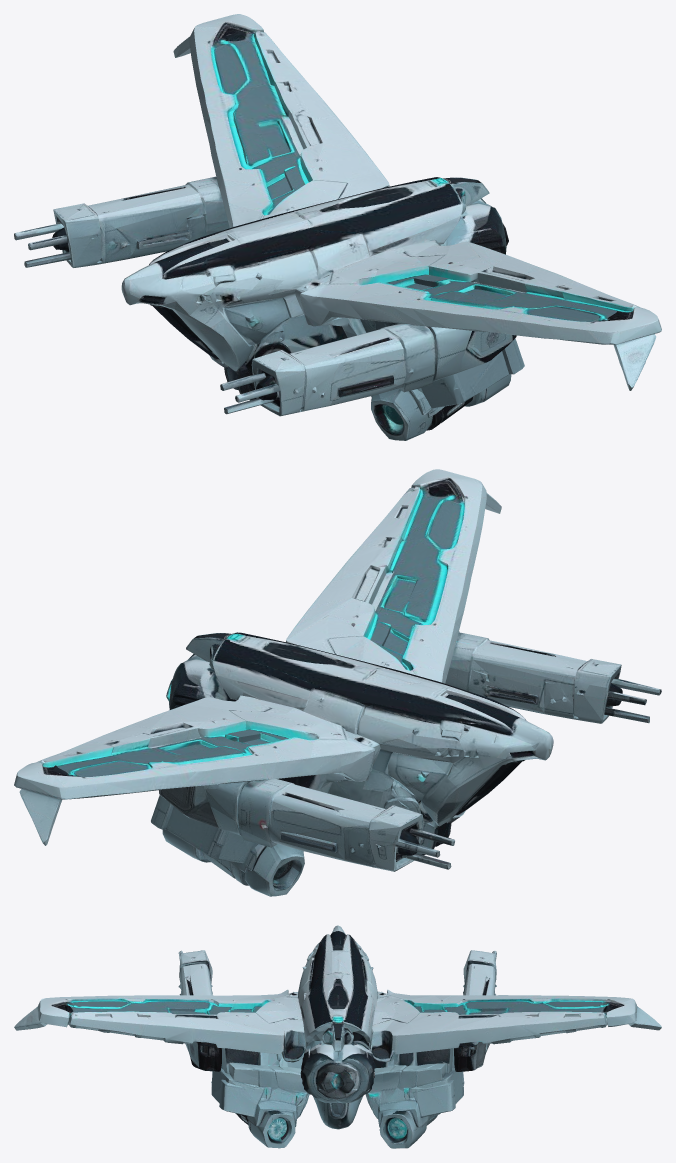
Rendered from g2_swallow.glb.
3 renders of one model, top to bottom at view 1: azimuth 30°, elevation 25°; view 2: azimuth 150°, elevation 25°; view 3: azimuth 270°, elevation 25°, orthographic. The views are drawn at different scales.
Bounding box in the file's own units: 0.8965 × 0.4579 × 1.9.
1 material, 1 textured.
